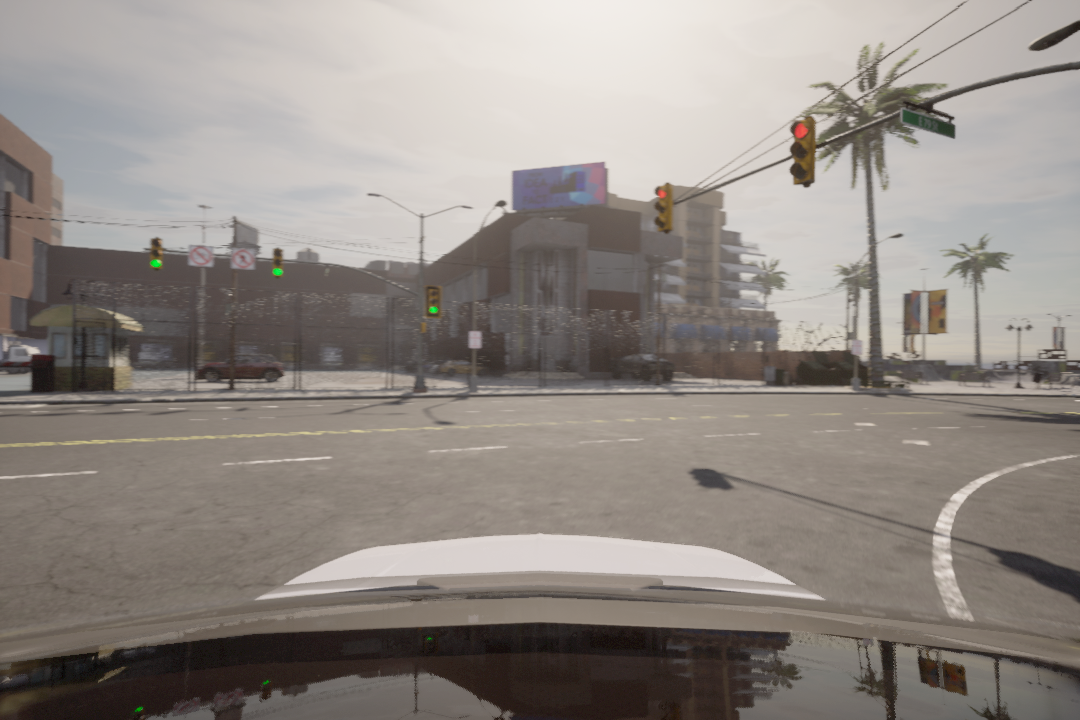TrafficLight: (786, 117, 817, 189), (651, 182, 673, 234), (427, 289, 444, 320), (149, 237, 162, 271), (272, 248, 286, 279)
TrafficSign: (187, 244, 214, 268), (232, 250, 256, 271)
